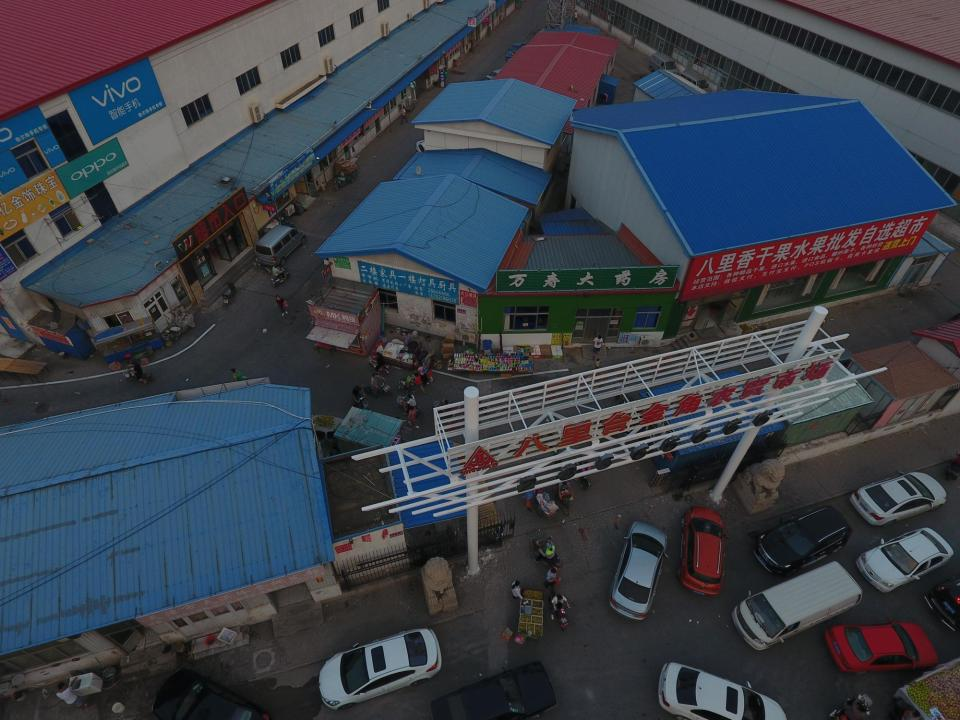car: (318, 627, 442, 710), (657, 662, 788, 720), (430, 661, 557, 720), (754, 506, 852, 577), (854, 528, 954, 592), (825, 616, 938, 672), (155, 667, 270, 720), (608, 520, 668, 620), (849, 470, 947, 526), (677, 506, 728, 596), (925, 574, 960, 635), (415, 139, 438, 163), (506, 42, 526, 61), (486, 68, 507, 82)
van: (732, 560, 863, 650), (254, 224, 306, 266)
